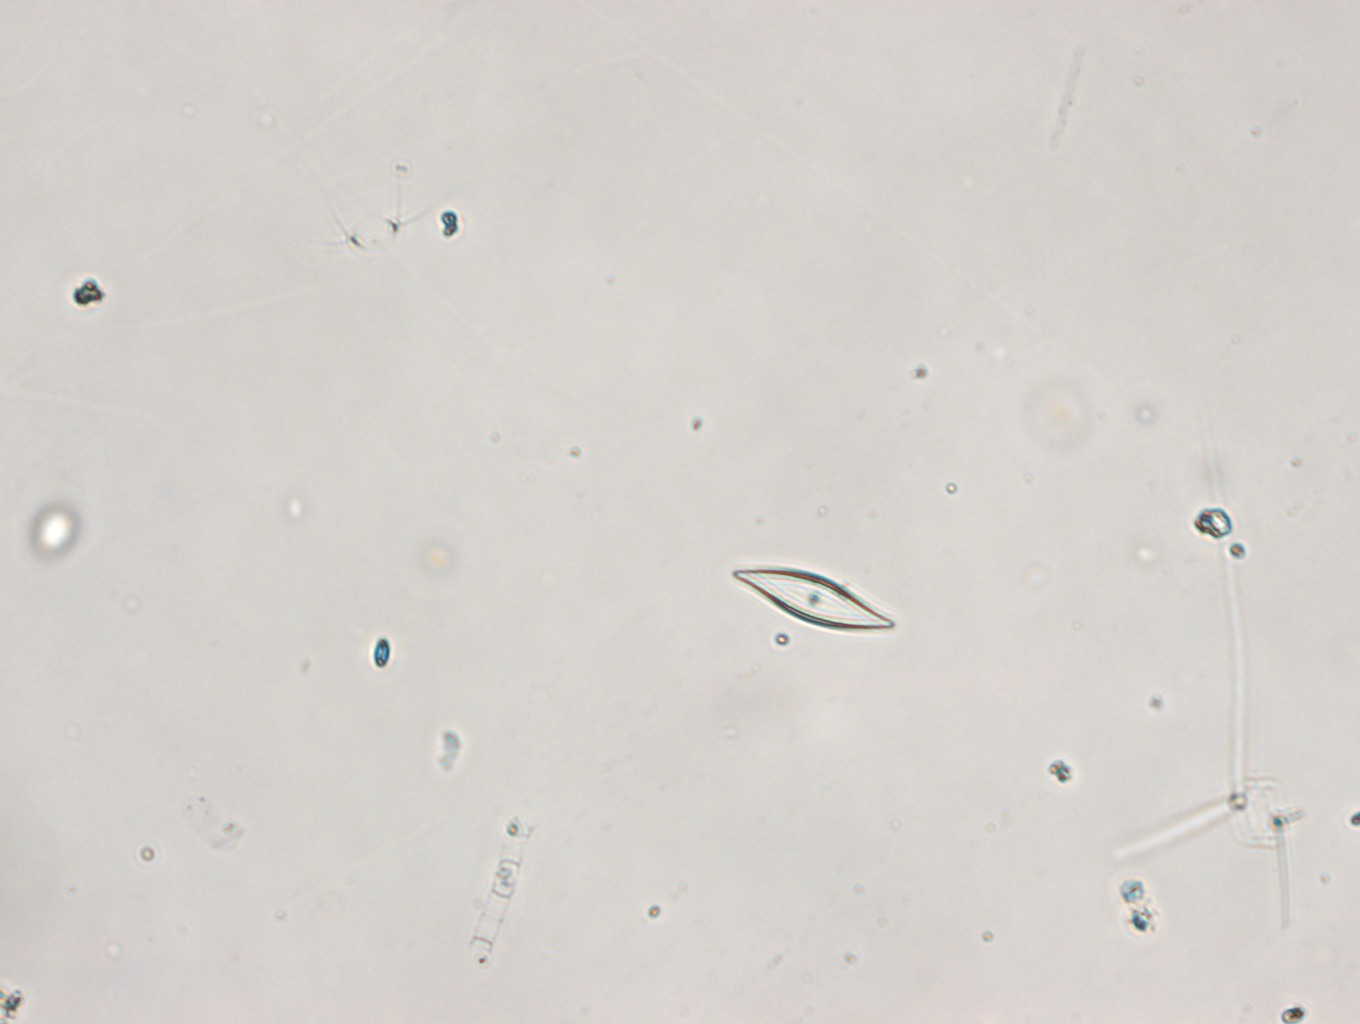pleurosigma pelagicum: (725, 559, 894, 640)
